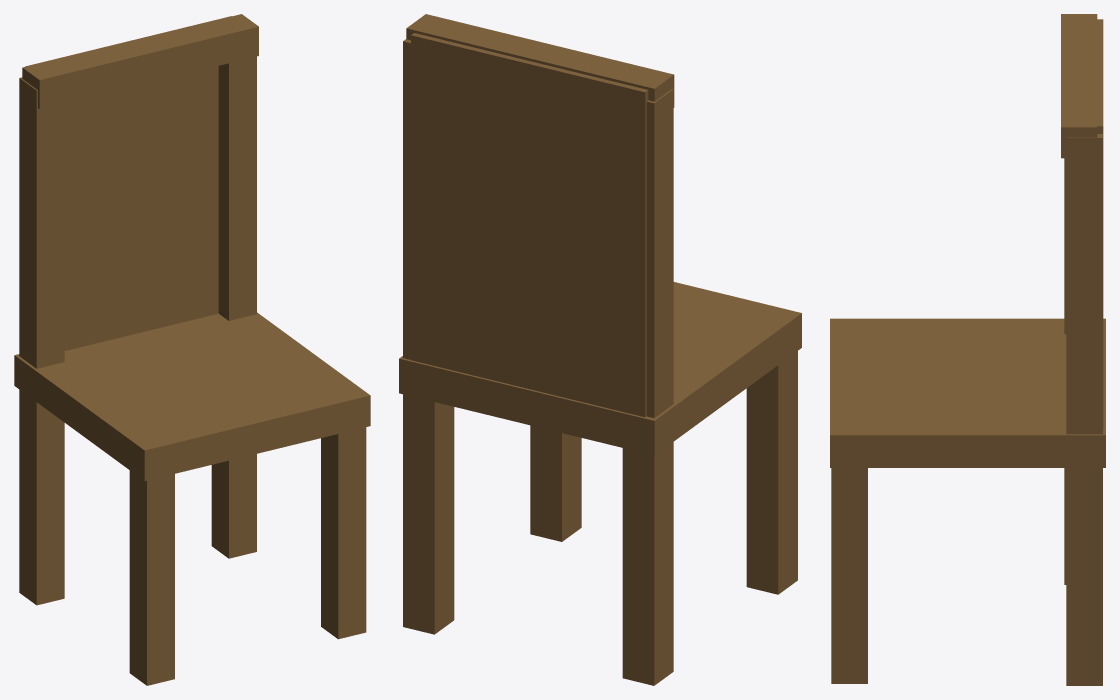
Rendered from стул.fbx.
3 views of the same model, side by side, from view 1: azimuth 30°, elevation 25°; view 2: azimuth 150°, elevation 25°; view 3: azimuth 270°, elevation 25° (orthographic). The views are drawn at different scales.
Visible parts, largest first — view 1: стул; view 2: стул; view 3: стул.
Part boxes in pixels (x1=…): стул: x1=14, y1=14, x2=370, y2=685; стул: x1=399, y1=14, x2=801, y2=685; стул: x1=830, y1=14, x2=1105, y2=685.
Size of the model in its own units: 106 by 237 by 106.
